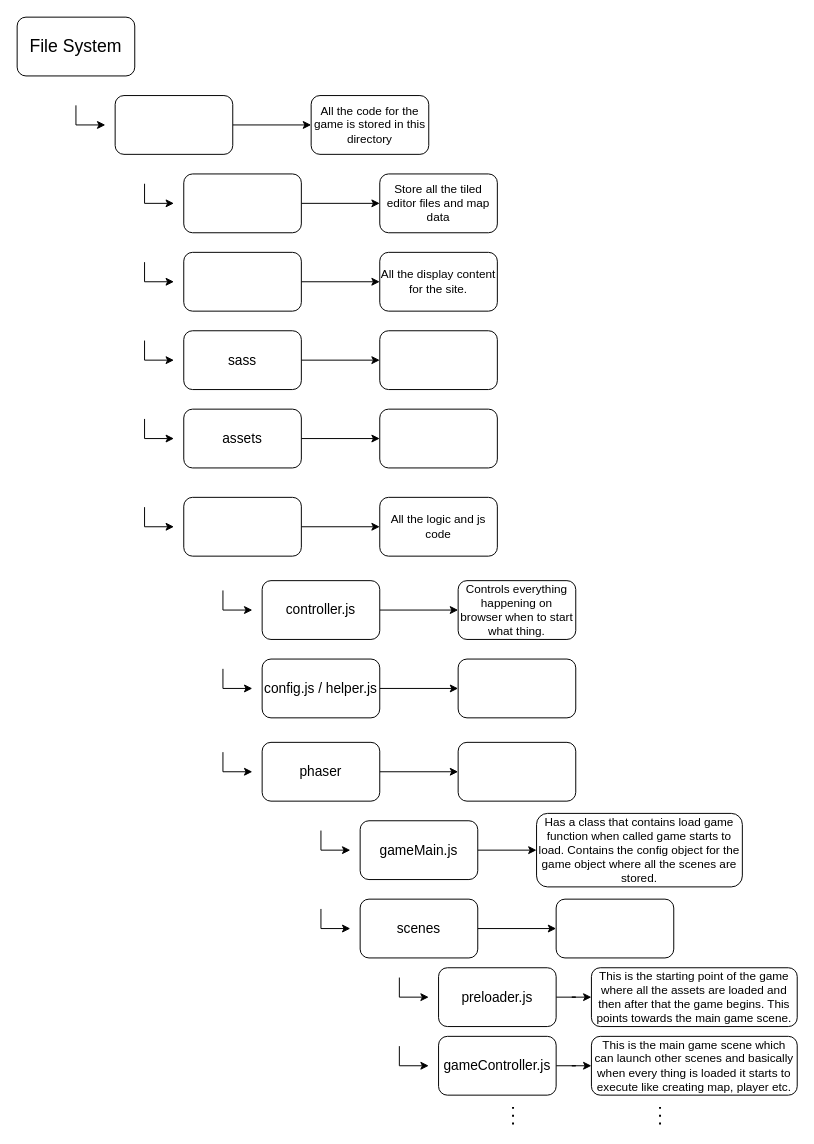
Image size: 814x1144. Some labels were removed from this diagram. The shapes that lost their labels are listed below. From the top down, each one's box as (x1, y1, x2, y2) in pixels, then its label:
(114, 95, 233, 154): src
(183, 173, 301, 233): resorces
(183, 251, 301, 311): Index.html
(379, 330, 497, 390): All the styles
(379, 408, 497, 468): Store all the tiled asset files.
(183, 496, 301, 556): js
(457, 658, 576, 718): stores all the helper functions and common variables
(457, 741, 576, 801): This directory stores all the phaser3 code.
(555, 898, 674, 958): This directory contains all the scenes.
